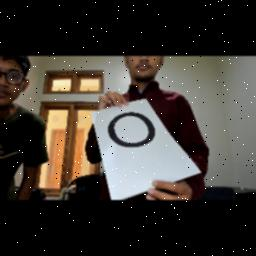o: (104, 108, 158, 154)
